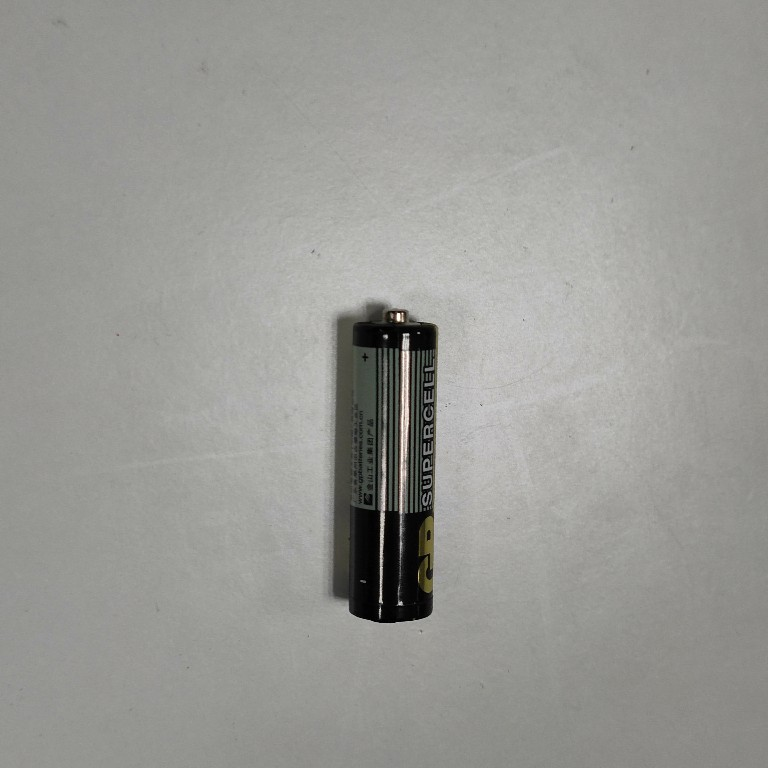charge: (346, 304, 442, 631)
